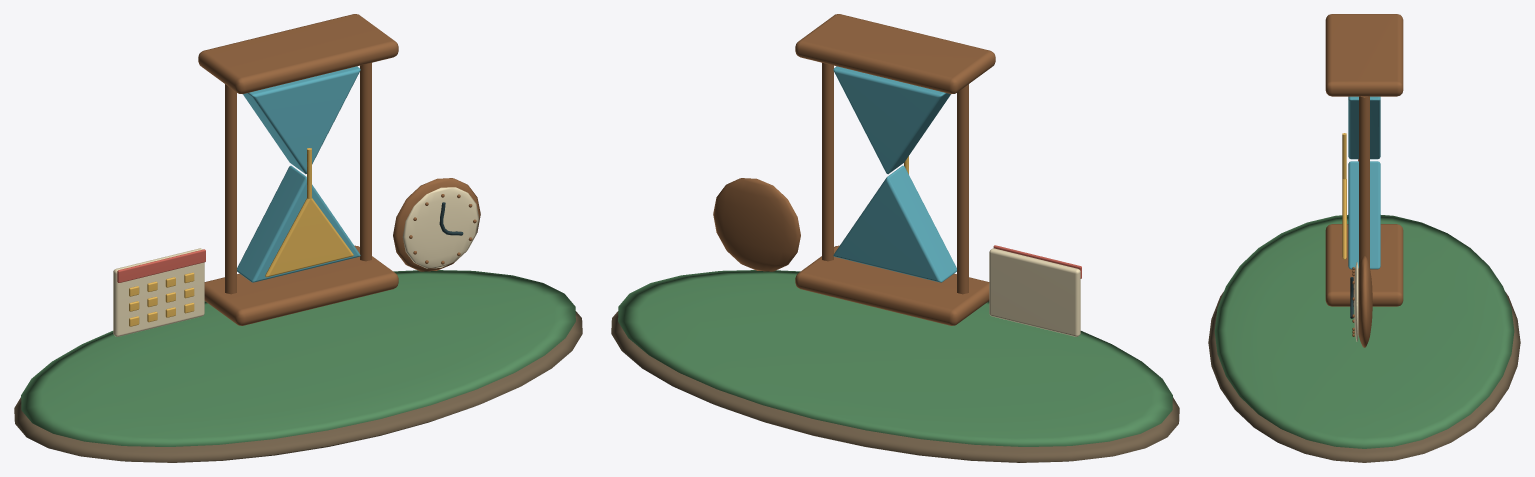
File: complete-first-long-running-time.glb
3 renders of one model, left to right at view 1: azimuth 30°, elevation 25°; view 2: azimuth 150°, elevation 25°; view 3: azimuth 270°, elevation 25°, orthographic. The views are drawn at different scales.
Visible parts, largest first — view 1: complete-first-long-running-time_surface_01, complete-first-long-running-time_surface_02, complete-first-long-running-time_surface_03, complete-first-long-running-time_surface_00, complete-first-long-running-time_surface_05, complete-first-long-running-time_surface_04, complete-first-long-running-time_surface_06; view 2: complete-first-long-running-time_surface_01, complete-first-long-running-time_surface_02, complete-first-long-running-time_surface_03, complete-first-long-running-time_surface_00, complete-first-long-running-time_surface_05; view 3: complete-first-long-running-time_surface_01, complete-first-long-running-time_surface_02, complete-first-long-running-time_surface_00, complete-first-long-running-time_surface_03, complete-first-long-running-time_surface_04, complete-first-long-running-time_surface_05.
Part boxes in pixels (x1,y1,x2,y2): complete-first-long-running-time_surface_01: (21,270,575,446); complete-first-long-running-time_surface_02: (198,14,480,325); complete-first-long-running-time_surface_03: (237,66,360,282); complete-first-long-running-time_surface_00: (14,311,582,462); complete-first-long-running-time_surface_05: (113,187,479,336); complete-first-long-running-time_surface_04: (129,148,353,326); complete-first-long-running-time_surface_06: (117,249,205,282); complete-first-long-running-time_surface_01: (618,270,1172,446); complete-first-long-running-time_surface_02: (713,14,995,325); complete-first-long-running-time_surface_03: (833,66,956,282); complete-first-long-running-time_surface_00: (611,311,1179,462); complete-first-long-running-time_surface_05: (789,202,1080,336); complete-first-long-running-time_surface_01: (1214,215,1514,448); complete-first-long-running-time_surface_02: (1325,14,1403,347); complete-first-long-running-time_surface_00: (1208,291,1520,462); complete-first-long-running-time_surface_03: (1348,96,1380,269); complete-first-long-running-time_surface_04: (1342,133,1346,259); complete-first-long-running-time_surface_05: (1354,262,1358,341).
Size of the model in its own units: 4.56 by 2.73 by 2.5.
